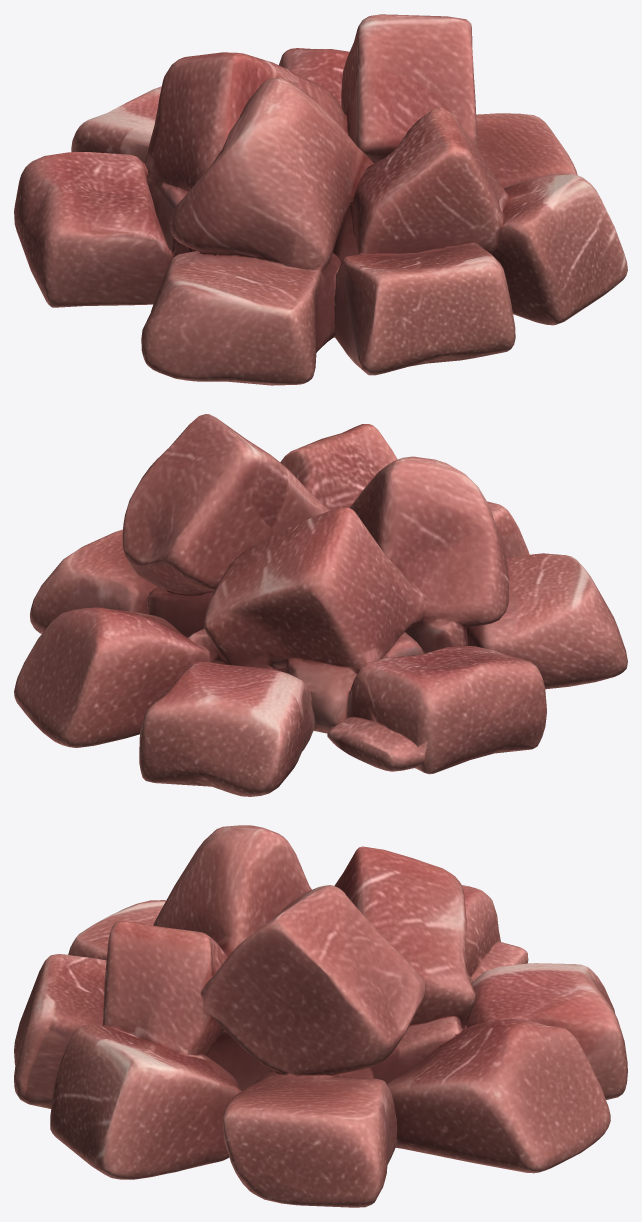
File: CarneCerdo_Cruda.fbx
3 renders of one model, top to bottom at view 1: azimuth 30°, elevation 25°; view 2: azimuth 150°, elevation 25°; view 3: azimuth 270°, elevation 25°, orthographic. The views are drawn at different scales.
Visible parts, largest first — view 1: Mesh_0; view 2: Mesh_0; view 3: Mesh_0.
Part boxes in pixels (x1,y1,x2,y2): Mesh_0: [14, 14, 627, 385]; Mesh_0: [14, 414, 627, 796]; Mesh_0: [14, 825, 627, 1207].
Bounding box in the file's own units: 188 × 80.97 × 190.
1 material, 1 textured.
